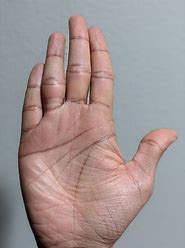palm: (17, 14, 178, 245)
